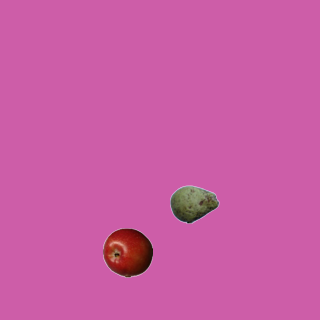Apple Braeburn: (102, 227, 152, 277)
Pear Stone: (169, 179, 219, 229)
